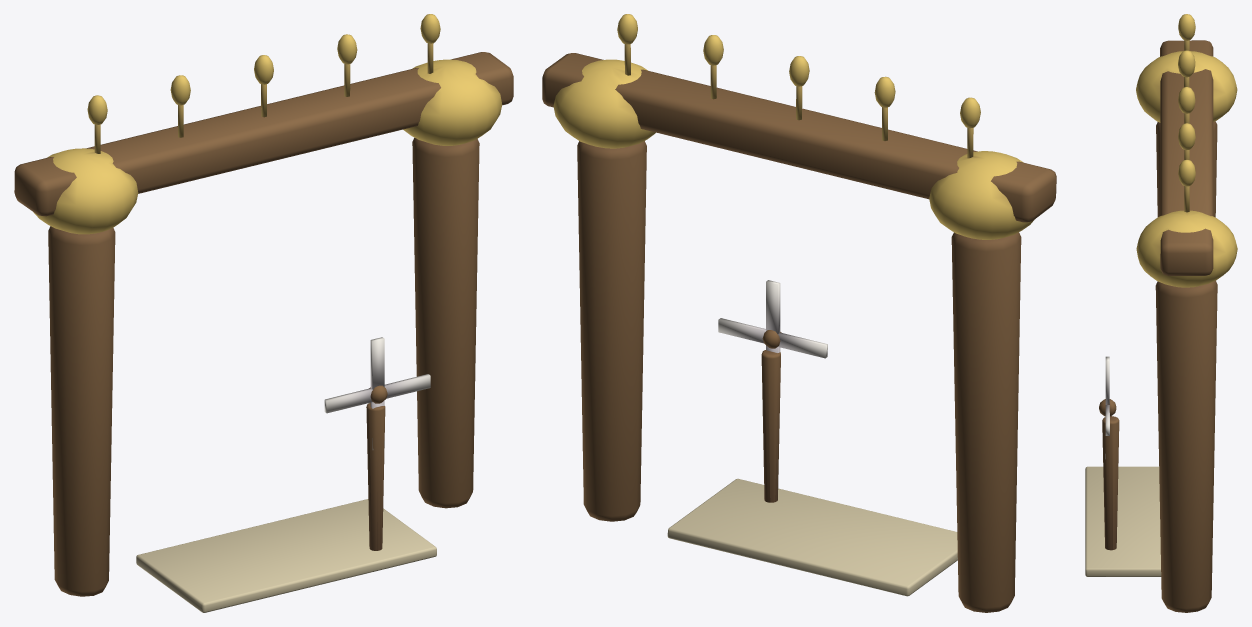
3 renders of one model, left to right at view 1: azimuth 30°, elevation 25°; view 2: azimuth 150°, elevation 25°; view 3: azimuth 270°, elevation 25°, orthographic. The views are drawn at different scales.
Visible parts, largest first — view 1: gate_29dbb709; view 2: gate_29dbb709; view 3: gate_29dbb709.
Part boxes in pixels (x1=…): gate_29dbb709: x1=14, y1=14, x2=513, y2=612; gate_29dbb709: x1=542, y1=14, x2=1056, y2=612; gate_29dbb709: x1=1085, y1=14, x2=1237, y2=612.
Bounding box in the file's own units: 4.88 × 4.78 × 1.5.
